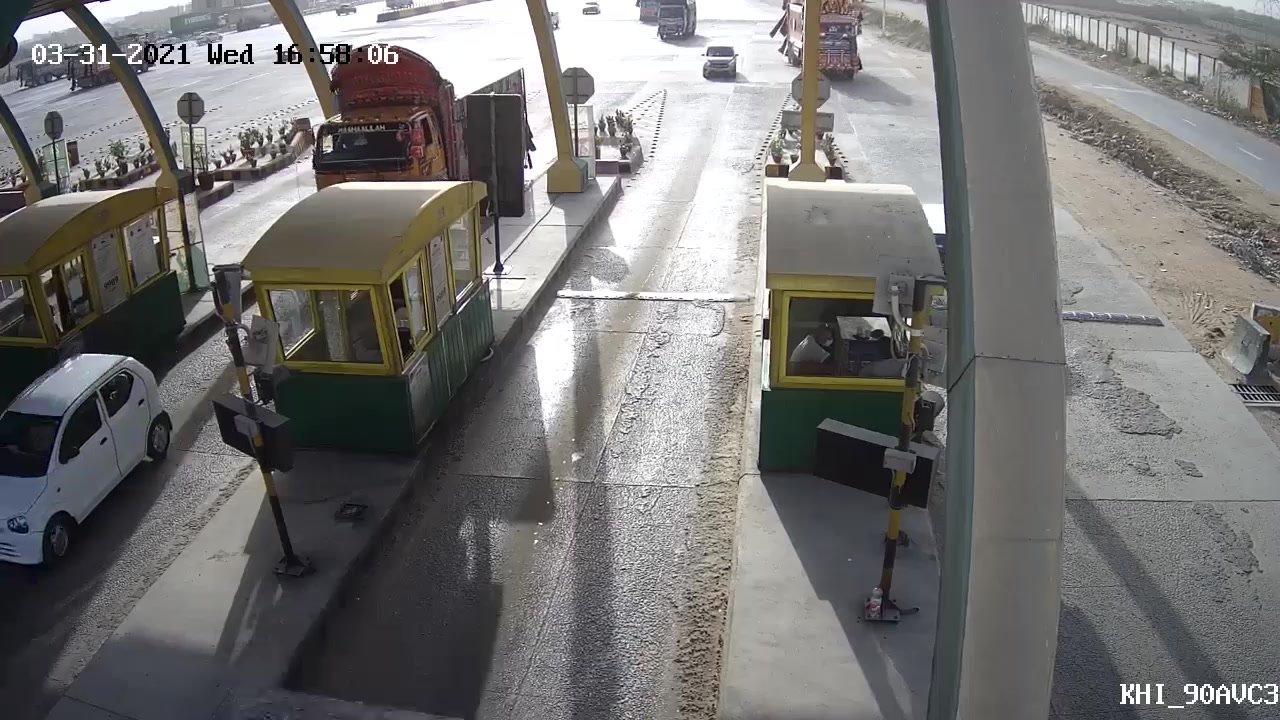F1: (698, 33, 742, 79)
